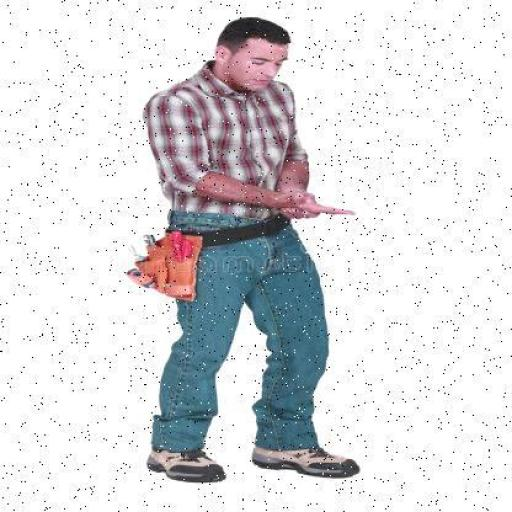person: (114, 15, 354, 490)
safety_shoe: (242, 442, 373, 480), (148, 447, 224, 488)
